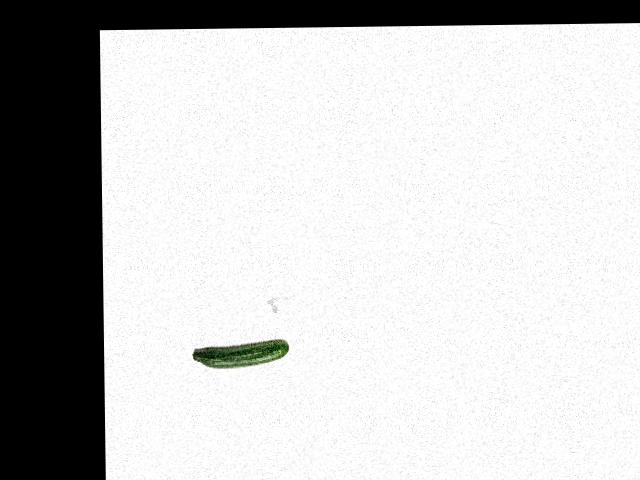cucumber: (192, 339, 290, 368)
